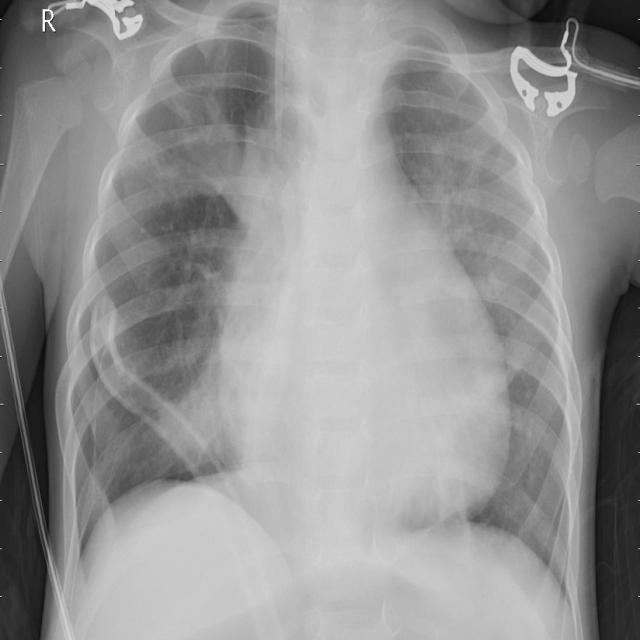high-pneumonia: (415, 113, 556, 343), (170, 105, 264, 210), (149, 368, 225, 470)
